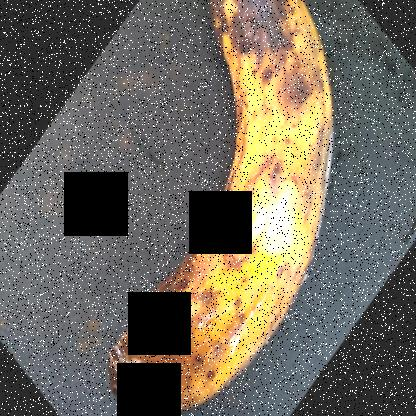rotten: (115, 1, 364, 410)
